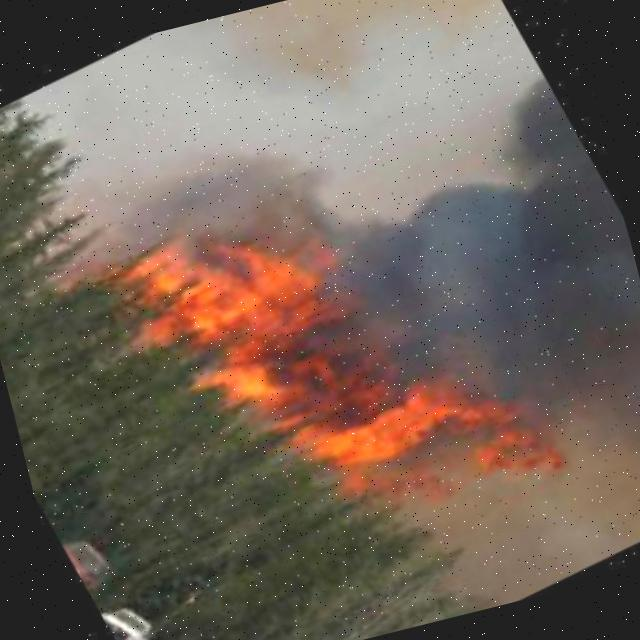fire: (116, 121, 513, 544)
